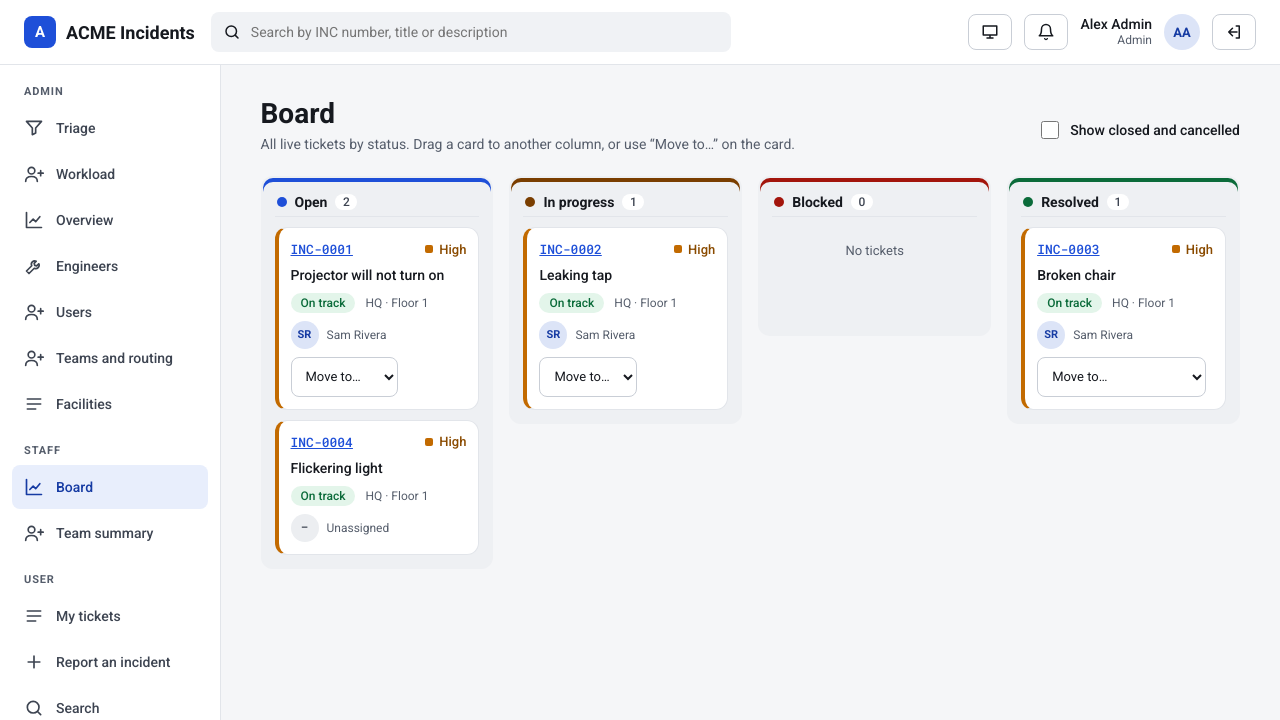
it: "Move to" menu › shows the server message when the ticket changed underneath (409)
Expected: the link "INC-0001" is shown, top-left (290, 240), bottom-right (353, 258)
Select "In progress" in the dropdown named "Move INC-0001 to" below "INC-0001": (344, 377) top-left (290, 357), bottom-right (398, 397)
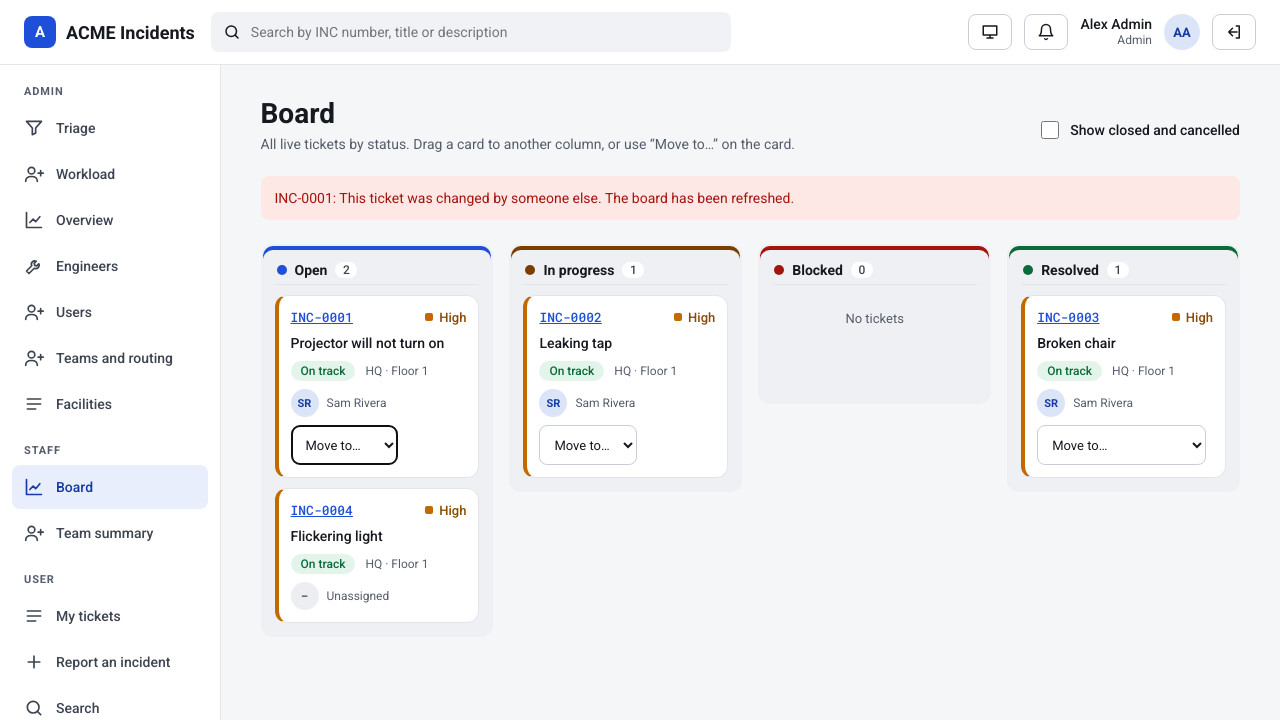
Result: the message reads "INC-0001: This ticket was changed by someone else. The board has been refreshed." at top-left (274, 190), bottom-right (794, 206)
